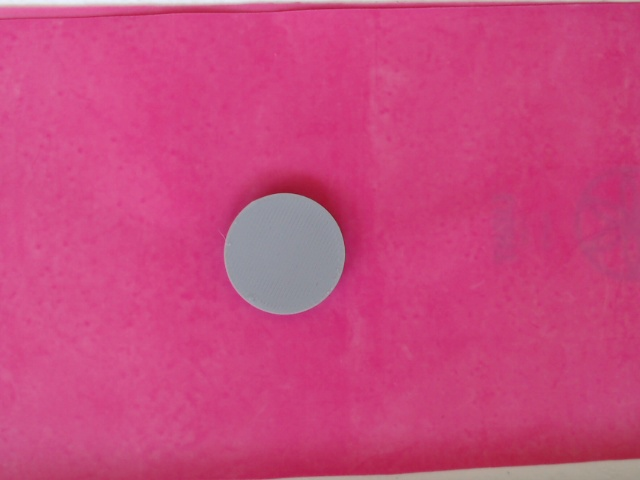NonDefective: (222, 191, 347, 317)
